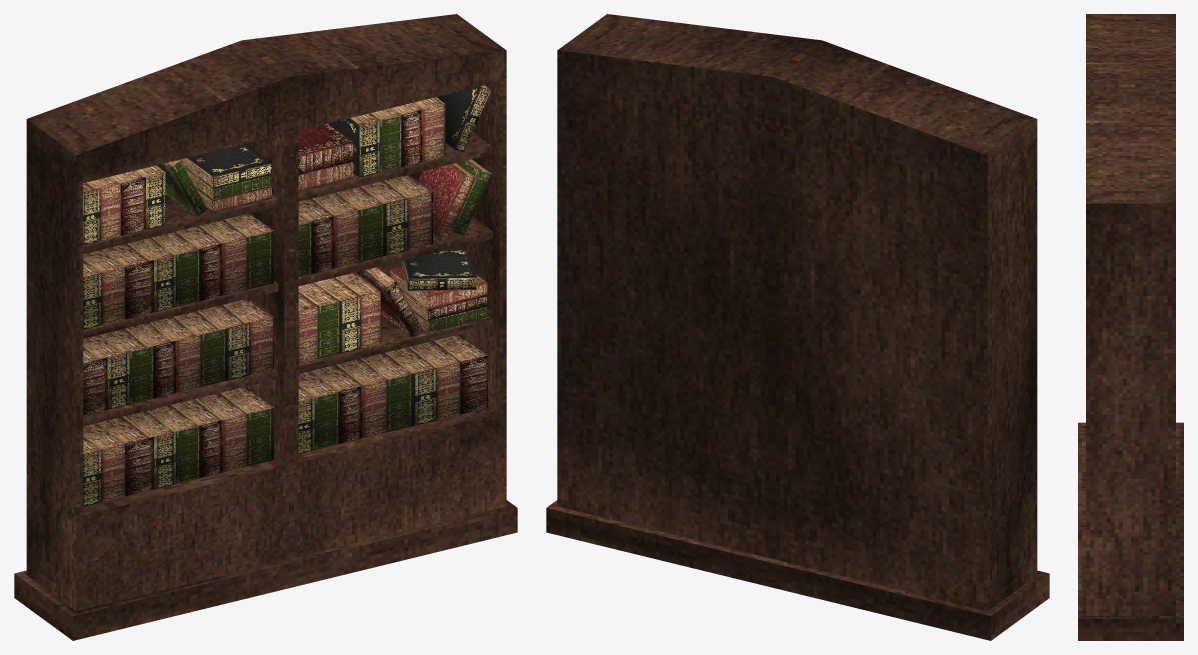
File: Bookshelf.glb
3 renders of one model, left to right at view 1: azimuth 30°, elevation 25°; view 2: azimuth 150°, elevation 25°; view 3: azimuth 270°, elevation 25°, orthographic. The views are drawn at different scales.
Parts seen in each view (by area): view 1: BookShelf; view 2: BookShelf; view 3: BookShelf.
Part boxes in pixels (x1,y1,x2,y2): BookShelf: [14, 14, 517, 640]; BookShelf: [546, 14, 1049, 640]; BookShelf: [1078, 14, 1183, 640].
Bounding box in the file's own units: 10.33 × 11.25 × 2.36.
Materials: 1 (1 with a texture image).
